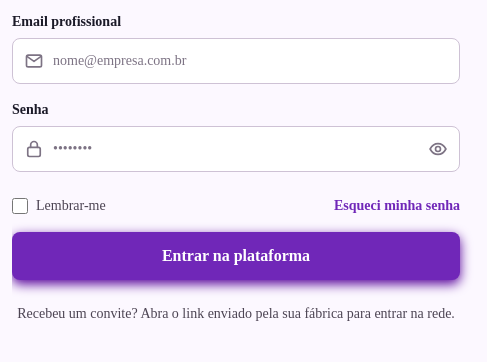
Scenario: LoginForm › surfaces field errors returned by the action
In the field labelled "Email profissional": (236, 61) [12,38,460,84], type "x"
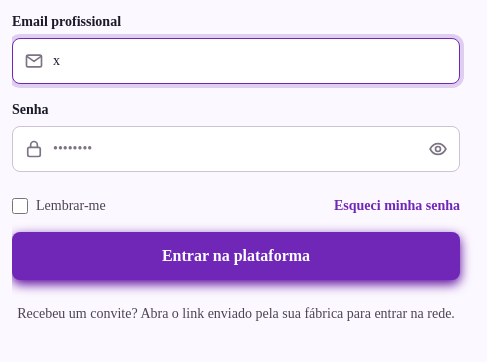
In the password field labelled "Senha": (236, 149) [12,126,460,172], type "y"
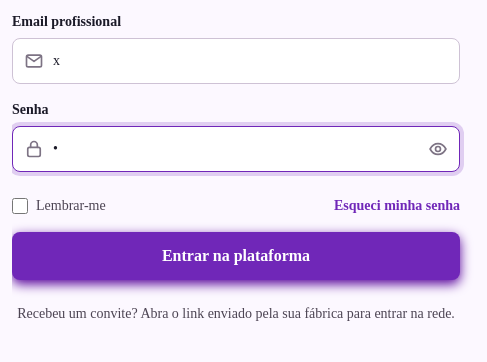
Click the button "Entrar na plataforma": (236, 256) [12,232,460,280]
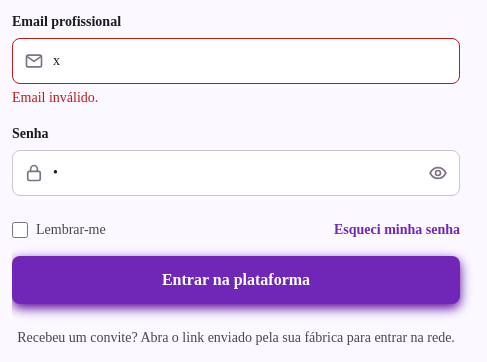
Result: the text "Email inválido." is shown at [12,90,98,105]
